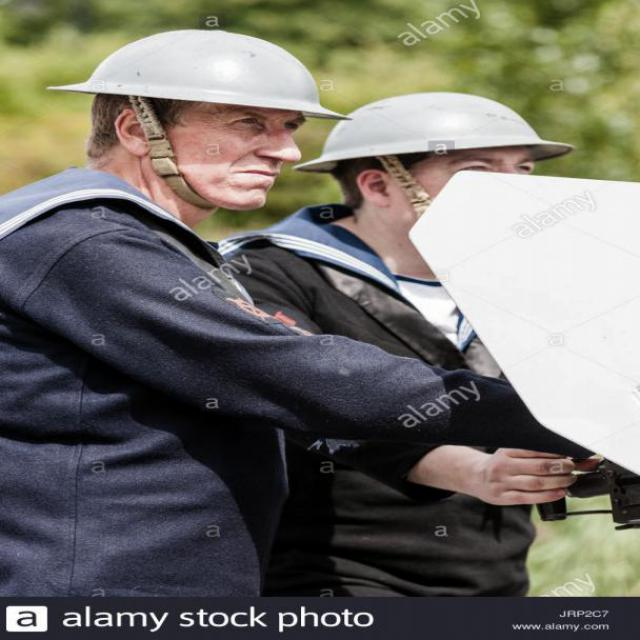helmet: (76, 7, 307, 217), (312, 93, 572, 192)
